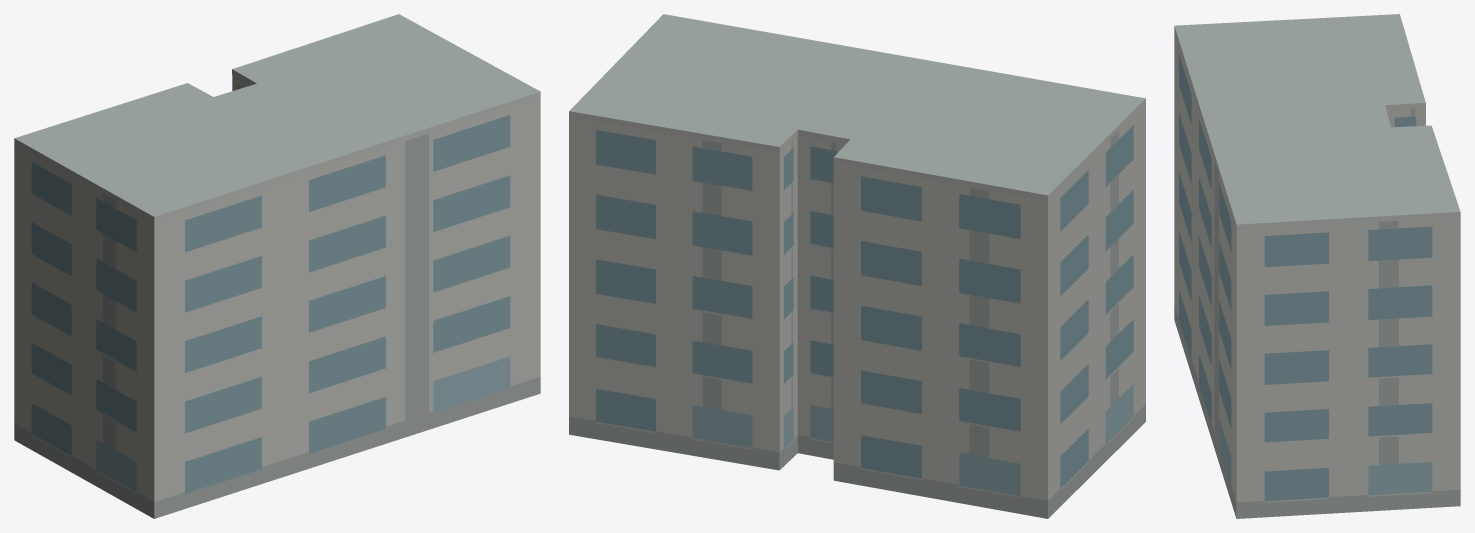
File: survey-upis-32980267.glb
3 views of the same model, side by side, from view 1: azimuth 30°, elevation 25°; view 2: azimuth 150°, elevation 25°; view 3: azimuth 270°, elevation 25° (orthographic). The views are drawn at different scales.
Visible parts, largest first — view 1: survey-upis-32980267.tmp; view 2: survey-upis-32980267.tmp; view 3: survey-upis-32980267.tmp.
Boxes of the visible parts, box(x1,y1,x2,y2) form: survey-upis-32980267.tmp: box(14, 14, 540, 518); survey-upis-32980267.tmp: box(569, 14, 1145, 518); survey-upis-32980267.tmp: box(1174, 14, 1460, 518).
Size of the model in its own units: 20.42 by 13.3 by 11.73.
